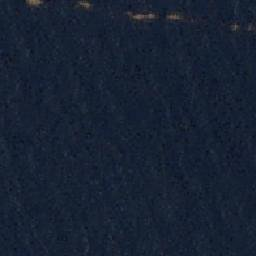debris: (128, 12, 158, 19), (77, 1, 93, 10), (166, 13, 182, 20), (24, 1, 45, 6), (247, 23, 256, 31), (231, 24, 241, 31)
